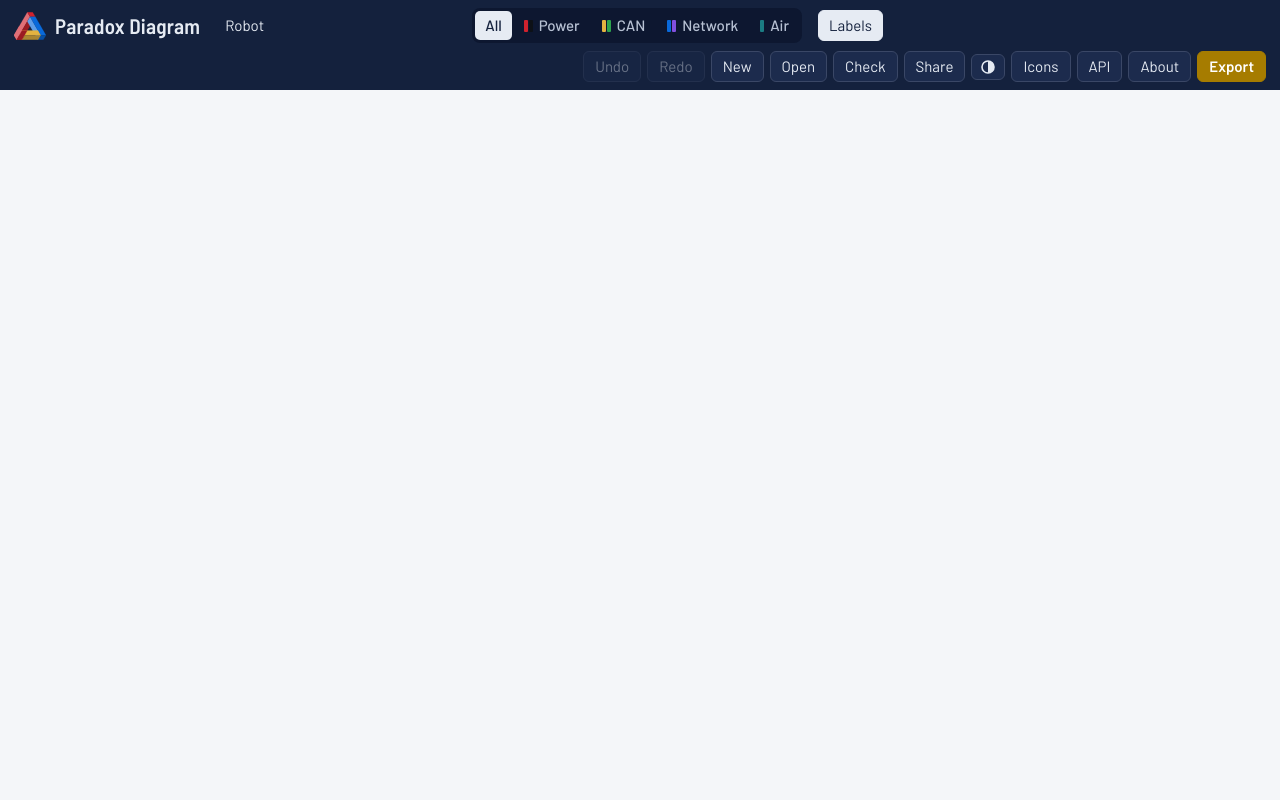
Test: Share makes a link and shows it with its length
Click the button "Share". click: (934, 66)
box: [904,51,965,82]
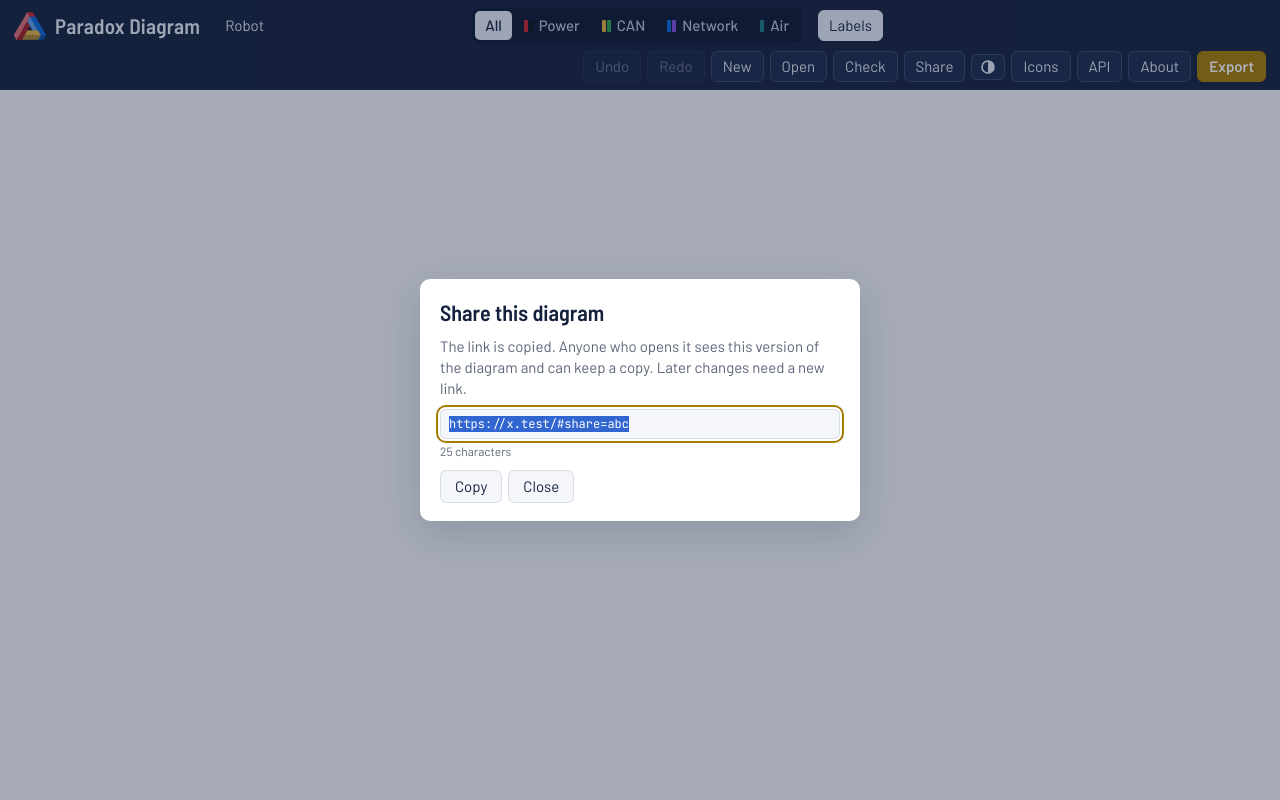
Result: the dialog named "Share link" shows "25 characters" at [420,279,860,521]
Result: the field named "Share link" holds "https://x.test/#share=abc" at [440,409,840,439]
